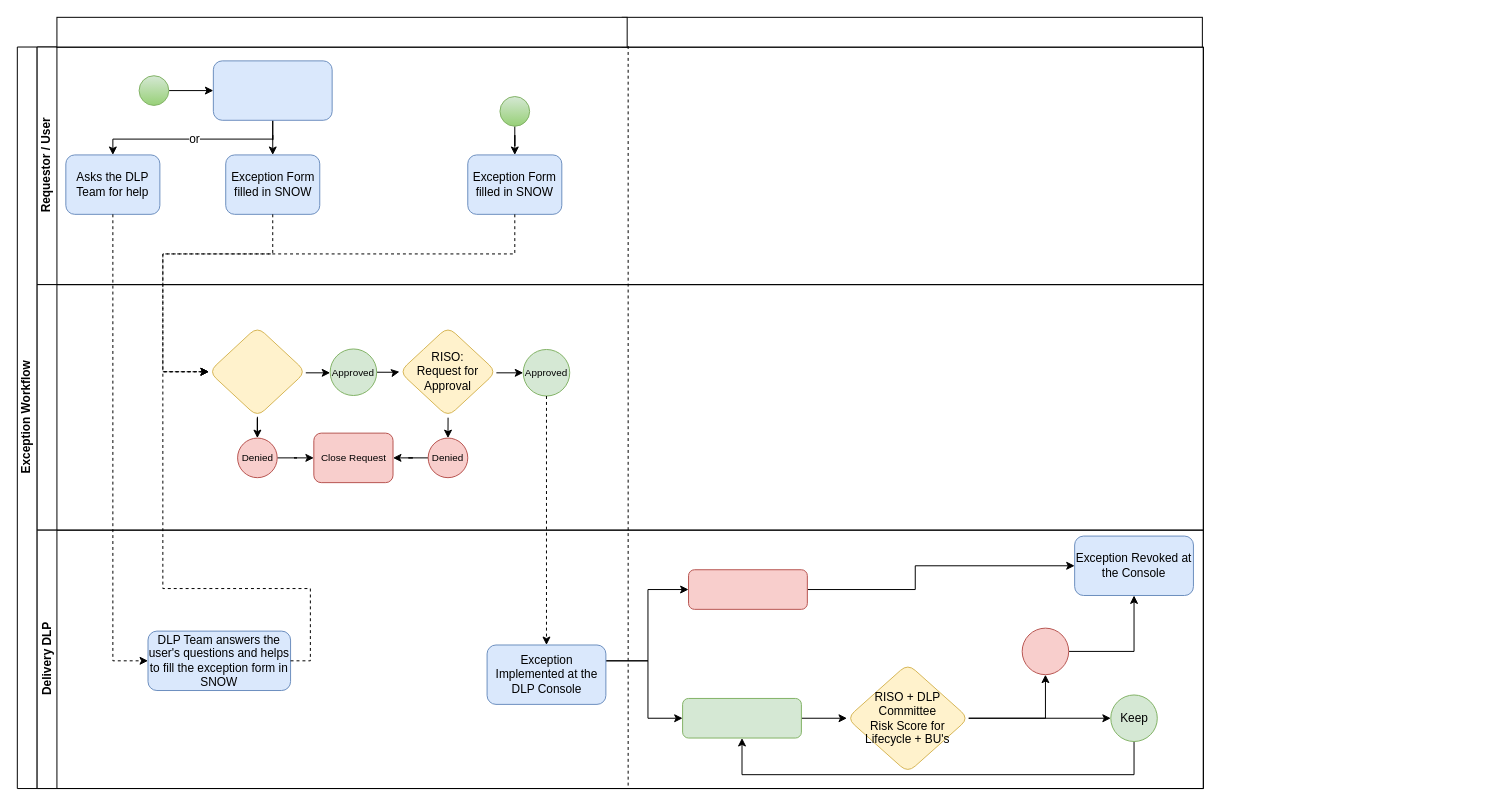
Some shapes in this 1492 by 806 pixel diagram are drawn without their labels. The box of each missing label's shape, as (x1, y1, x2, y2) in pixels:
Exception Lifecycle: (621, 16, 1202, 47)
Gets a block message from the DLP Console: (212, 60, 332, 120)
Line Manager: Request for Approval: (208, 326, 306, 417)
New Exception: (56, 16, 627, 47)
Permanent / Long Term Exceptions: (682, 697, 801, 738)
Revoke: (1021, 627, 1069, 675)
SNOW: (36, 284, 1203, 530)
Temporary Exceptions: (688, 569, 807, 609)
